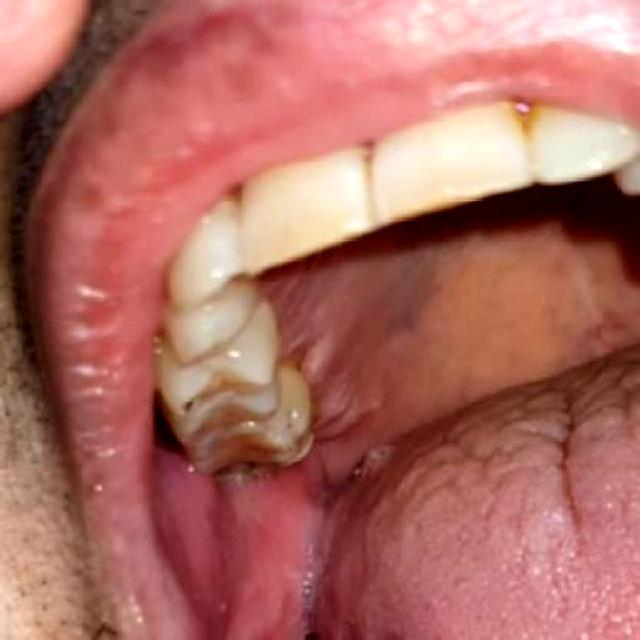Plaque: (278, 305, 346, 434)
